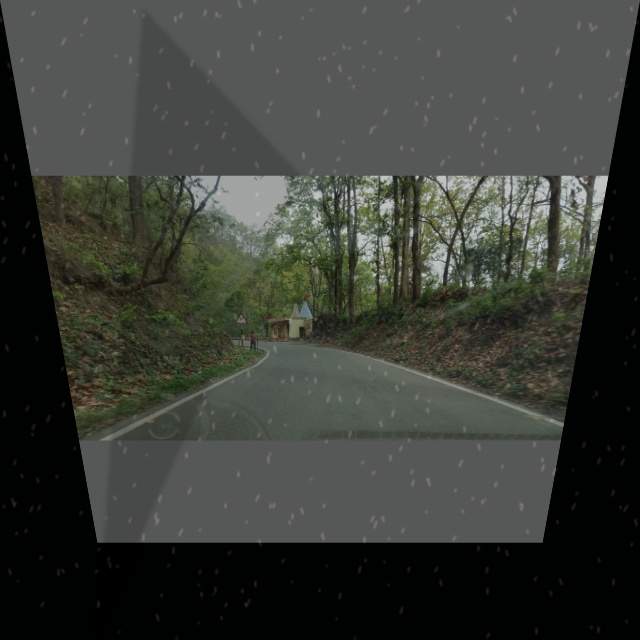Narrow_Bridge: (233, 307, 249, 325)
